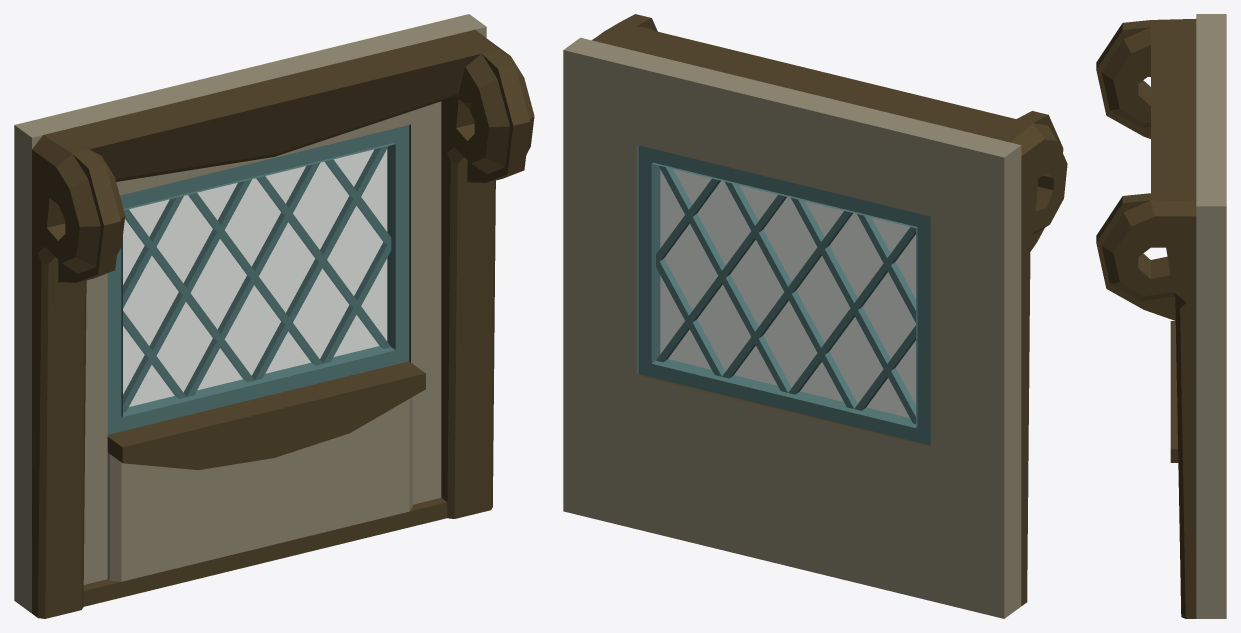
The model's file is fantasy_wall_2_window.fbx.
The picture shows the model from 3 angles, left to right: view 1: azimuth 30°, elevation 25°; view 2: azimuth 150°, elevation 25°; view 3: azimuth 270°, elevation 25°; orthographic projection. The views are drawn at different scales.
Parts seen in each view (by area): view 1: Cube.012, Plane, Cylinder.005; view 2: Cube.012, Plane, Cylinder.005; view 3: Cube.012.
Boxes of the visible parts, <box> form: Cube.012: <box>14,14,534,618</box>; Plane: <box>123,149,387,406</box>; Cylinder.005: <box>123,146,391,412</box>; Cube.012: <box>563,14,1067,618</box>; Plane: <box>660,169,915,417</box>; Cylinder.005: <box>656,165,915,423</box>; Cube.012: <box>1096,14,1226,618</box>.
Bounding box in the file's own units: 300 × 300 × 86.
